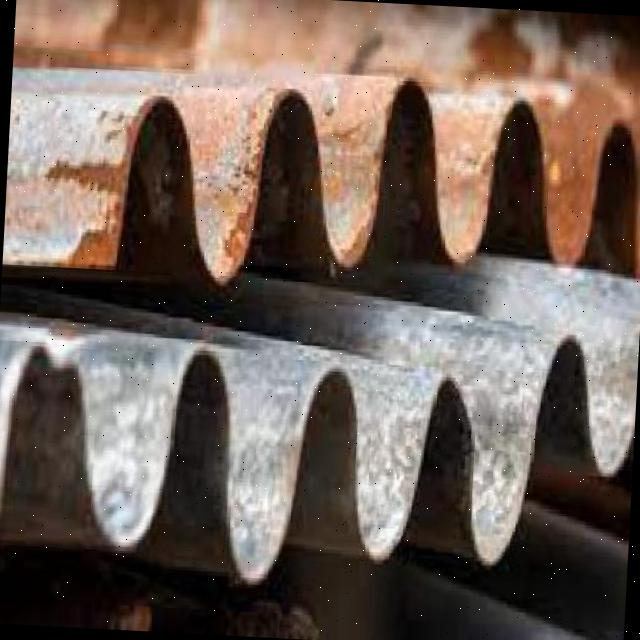Corrosion: (0, 0, 640, 640), (3, 48, 640, 308)
